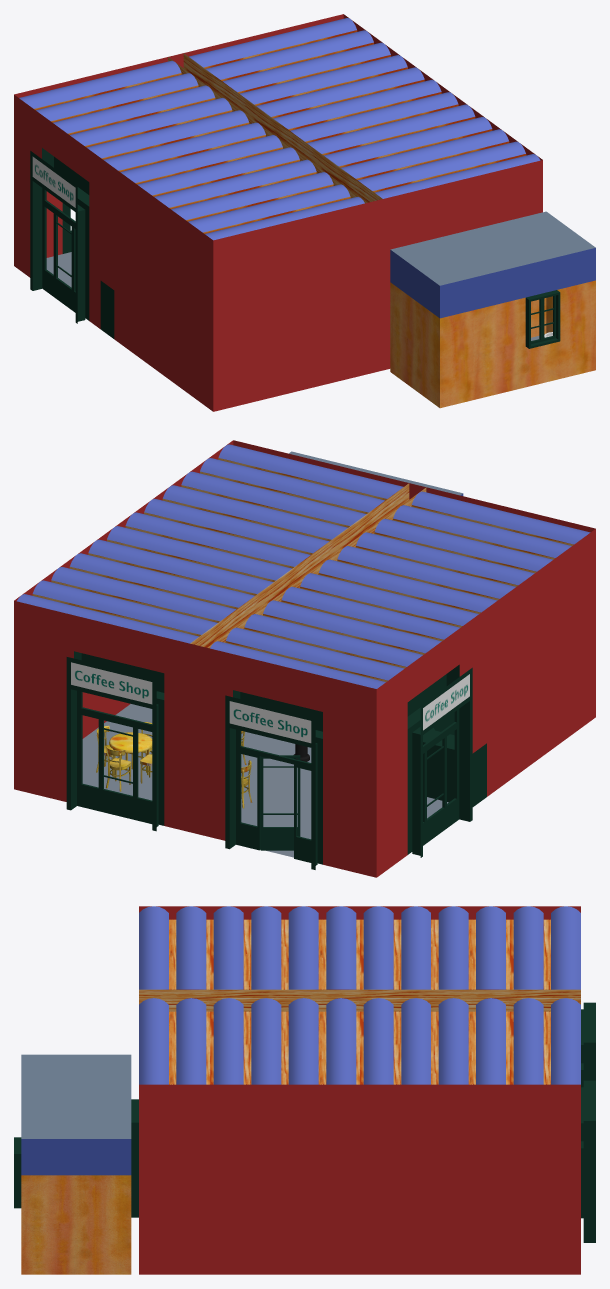
File: bar.FBX
3 views of the same model, one above another, from view 1: azimuth 30°, elevation 25°; view 2: azimuth 150°, elevation 25°; view 3: azimuth 270°, elevation 25° (orthographic). The views are drawn at different scales.
Parts seen in each view (by area): view 1: Box006, Arc052, Box067, Plane011, Plane005, jassera, Box069, Box075; view 2: Box006, Arc052, Plane002, Plane003, Plane005, jassera, Box075, Plane004, taula001, Plane011, cadira025; view 3: Box006, Arc052, Box067, Plane011, jassera, Plane002, Plane003, Box068, Box069.
Part boxes in pixels (box(x1,y1,x2,y2)): Box006: box(14, 14, 542, 411); Arc052: box(19, 18, 540, 240); Box067: box(390, 248, 595, 408); Plane011: box(390, 211, 595, 285); Plane005: box(30, 148, 89, 323); jassera: box(168, 53, 382, 203); Box069: box(525, 290, 560, 348); Box075: box(100, 281, 114, 338); Box006: box(14, 440, 595, 877); Arc052: box(17, 444, 590, 688); Plane002: box(66, 651, 164, 831); Plane003: box(225, 690, 322, 869); Plane005: box(407, 664, 472, 857); jassera: box(190, 483, 426, 648); Box075: box(423, 712, 486, 806); Plane004: box(260, 755, 300, 850); taula001: box(109, 732, 152, 777); Plane011: box(289, 451, 462, 495); cadira025: box(106, 745, 131, 791); Box006: box(139, 906, 580, 1274); Arc052: box(139, 906, 580, 1084); Box067: box(21, 1139, 131, 1274); Plane011: box(21, 1054, 131, 1138); jassera: box(139, 989, 580, 1011); Plane002: box(581, 1080, 595, 1242); Plane003: box(581, 1002, 595, 1087); Box068: box(131, 1099, 138, 1217); Box069: box(14, 1137, 21, 1208).
Size of the model in its own units: 8.75 by 4.2 by 11.65.
